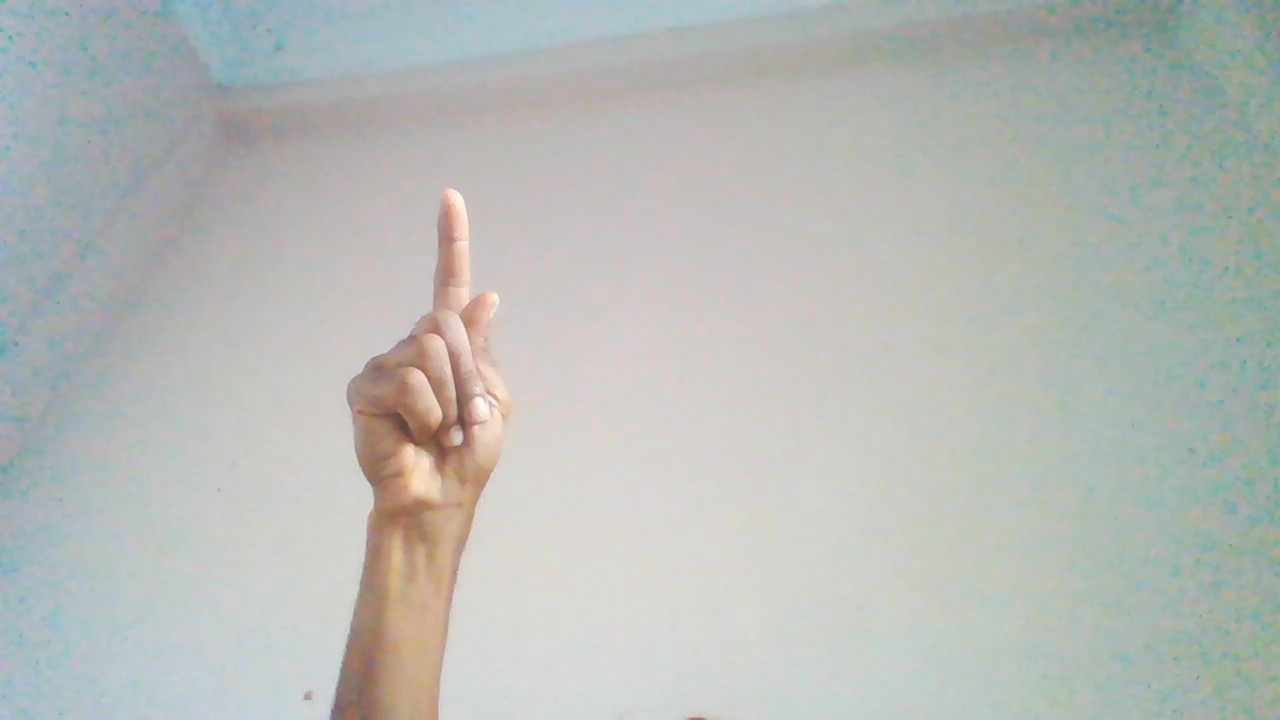ne: (345, 191, 507, 582)
